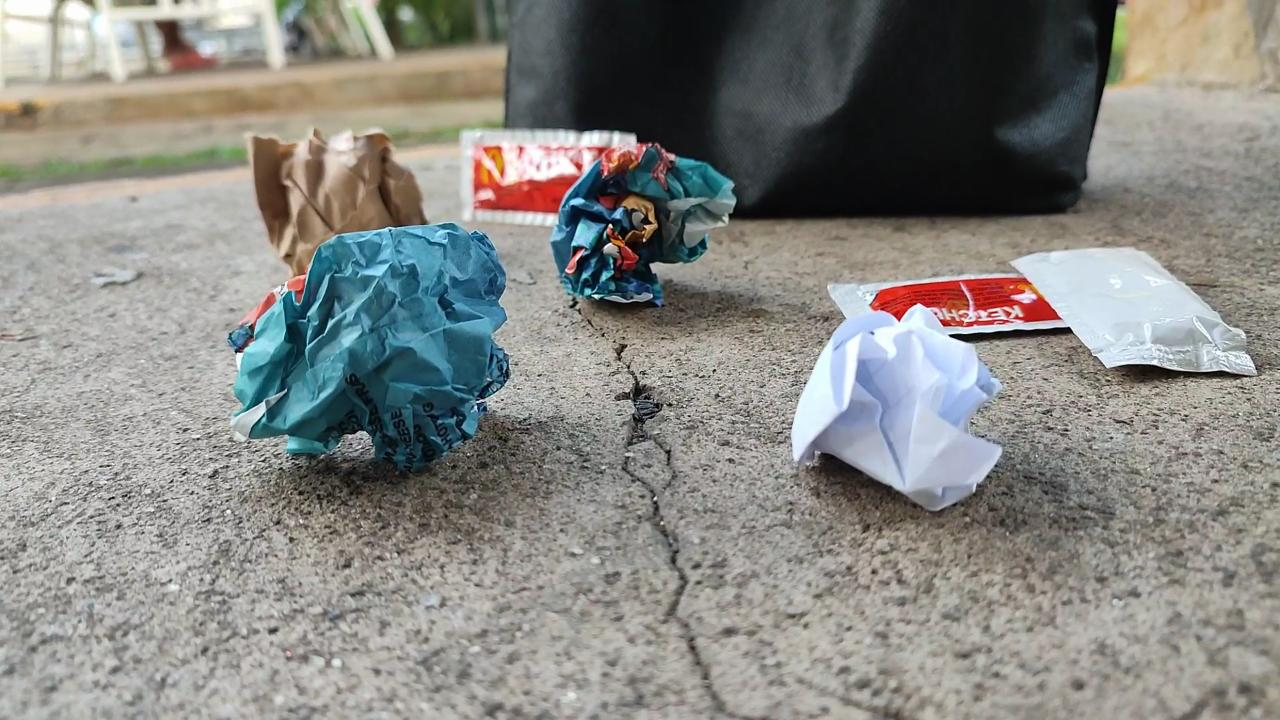Paper: (204, 212, 525, 491), (774, 299, 1010, 522), (232, 110, 444, 291), (542, 144, 745, 324)
